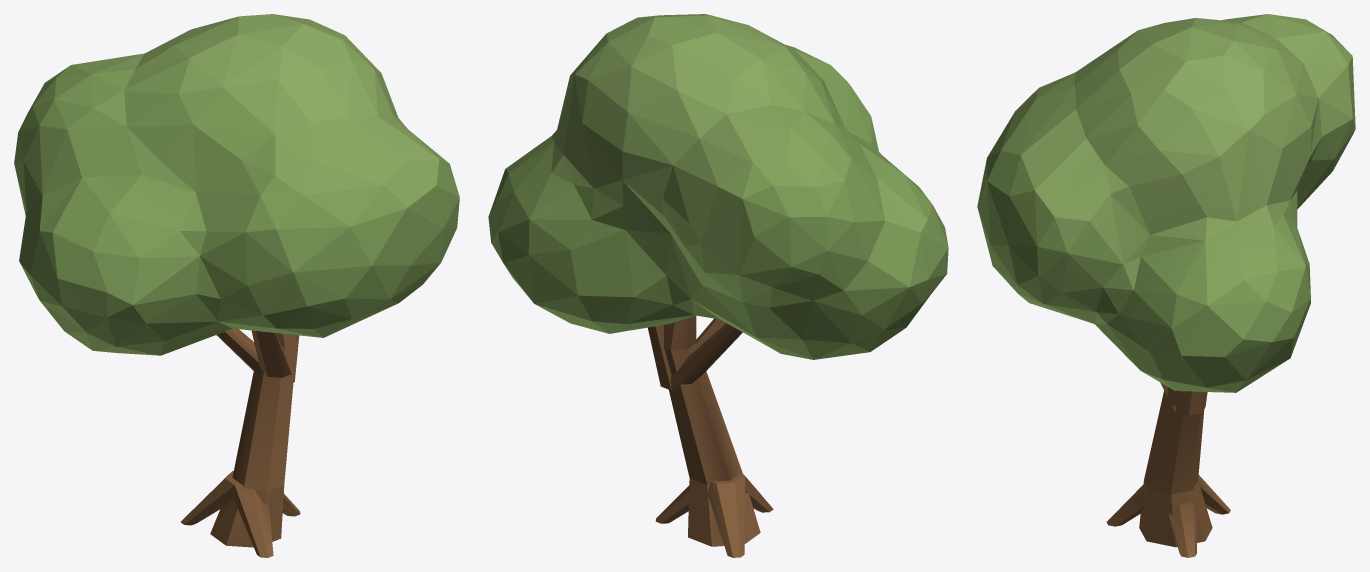
Rendered from grove-sculpt-1.glb.
3 views of the same model, side by side, from view 1: azimuth 30°, elevation 25°; view 2: azimuth 150°, elevation 25°; view 3: azimuth 270°, elevation 25° (orthographic). The views are drawn at different scales.
Visible parts, largest first — view 1: Icosphere, Branch, Branch.006, Branch.003, Branch.005, Branch.002; view 2: Icosphere, Branch, Branch.005, Branch.002, Branch.001, Branch.004; view 3: Icosphere, Branch, Branch.004, Branch.006, Branch.001, Branch.005.
Part boxes in pixels (x1,y1,x2,y2): Icosphere: [14, 14, 459, 355]; Branch: [210, 333, 297, 547]; Branch.006: [231, 485, 273, 557]; Branch.003: [251, 330, 294, 381]; Branch.005: [180, 474, 234, 525]; Branch.002: [216, 328, 261, 373]; Icosphere: [488, 14, 948, 359]; Branch: [664, 316, 760, 546]; Branch.005: [707, 476, 744, 557]; Branch.002: [670, 323, 742, 390]; Branch.001: [648, 325, 671, 390]; Branch.004: [655, 472, 744, 523]; Icosphere: [977, 14, 1355, 392]; Branch: [1139, 387, 1212, 547]; Branch.004: [1168, 502, 1196, 557]; Branch.006: [1106, 485, 1143, 526]; Branch.001: [1175, 391, 1206, 415]; Branch.005: [1198, 475, 1230, 514].
Size of the model in its own units: 1.47 by 1.7 by 1.16.
